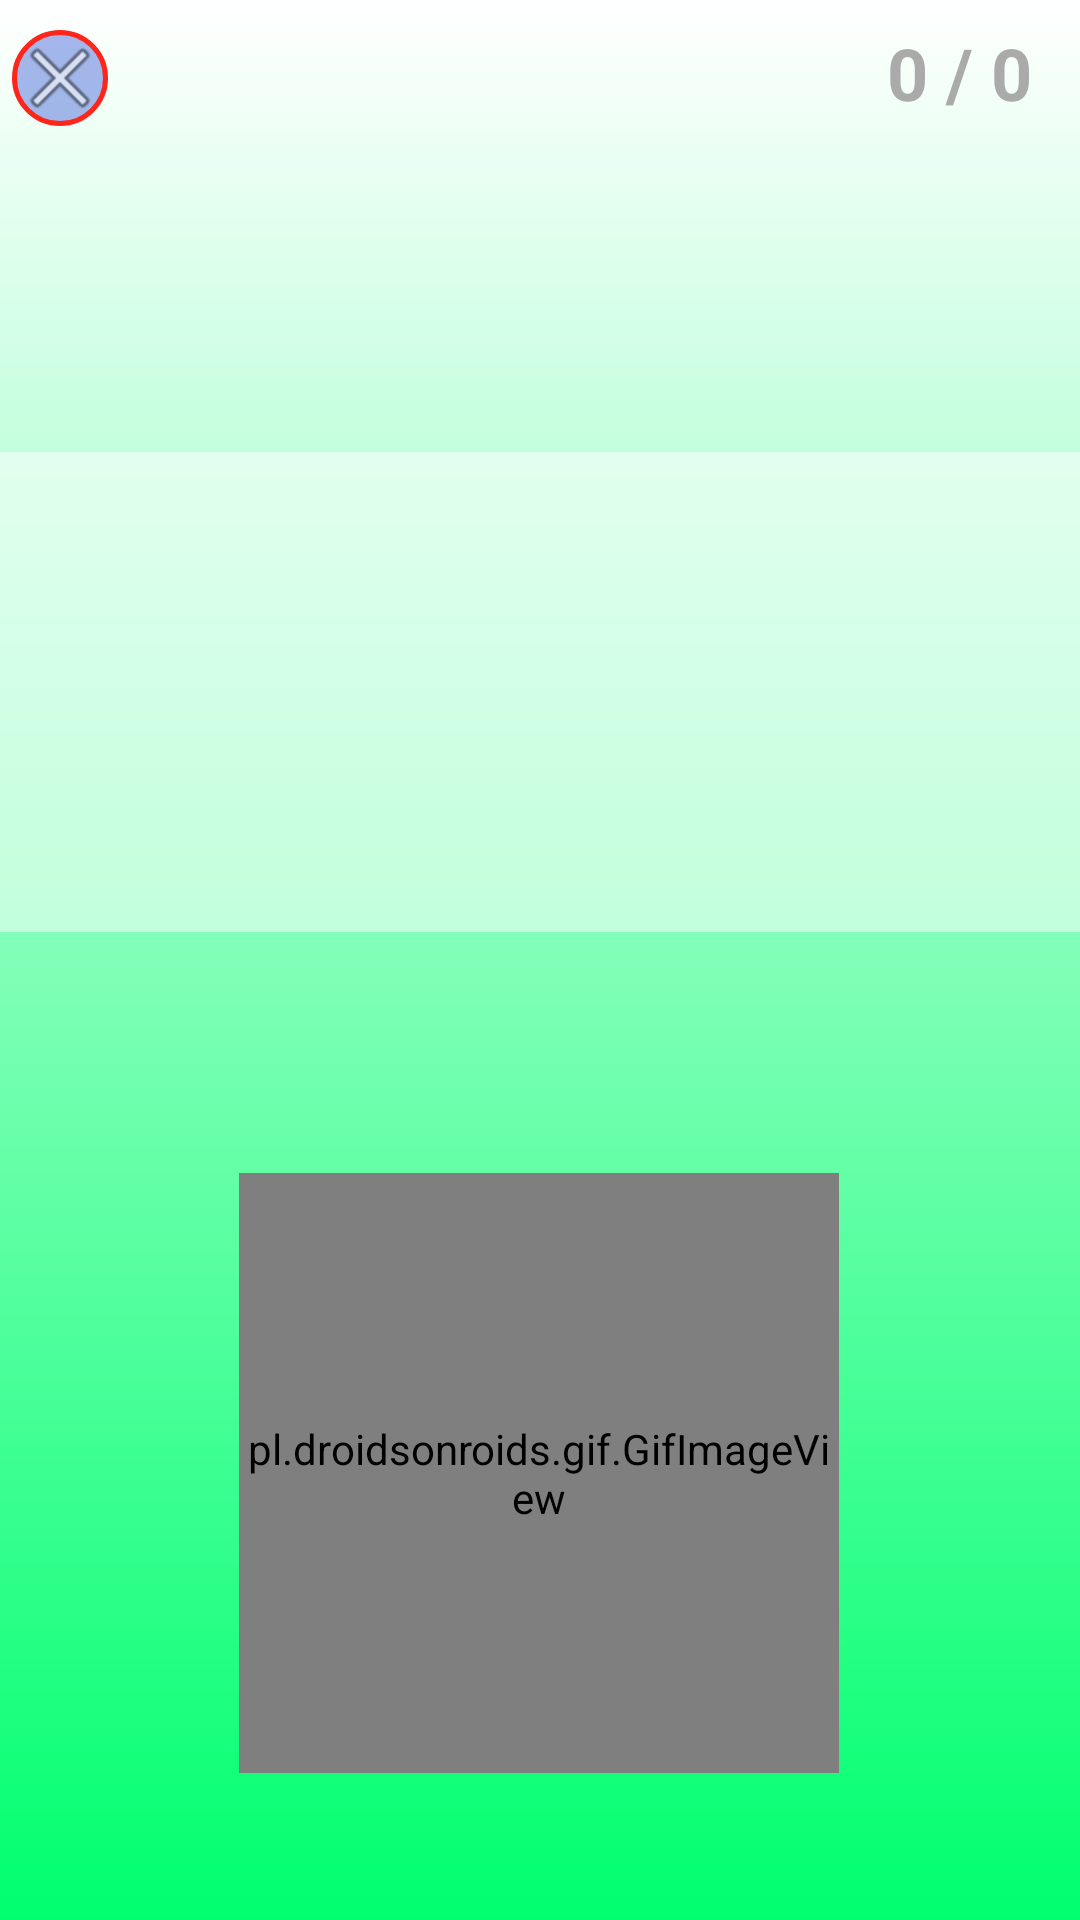

Where icons sit on this 1080px x 1920px app screen, as box(x1, y1, x2, y2):
close clear cancel: box(12, 30, 108, 126)
